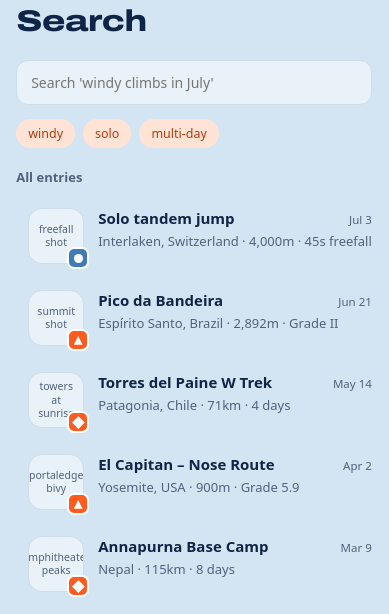
Scenario: SearchScreen › shows an empty state when nothing matches
This screenshot has width=389, height=614.
Type "antarctica" into the search field at (194, 82), box [16,60,372,104]
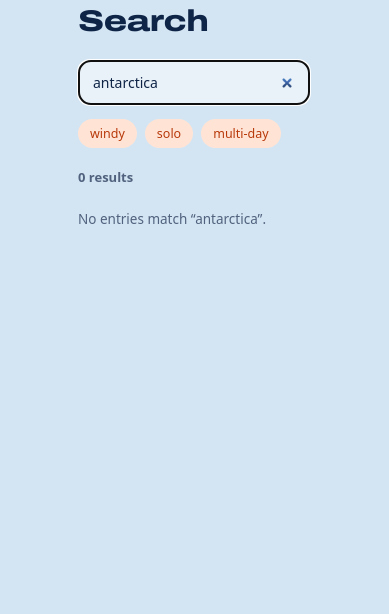
Now the text "No entries match “antarctica”." is shown, box [78,210,266,228]
